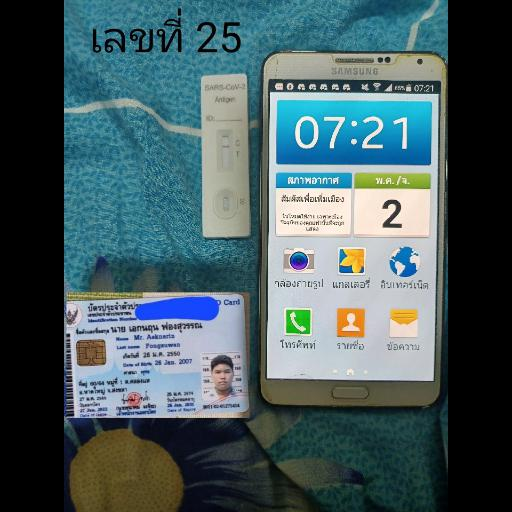Neg: (200, 72, 250, 238)
